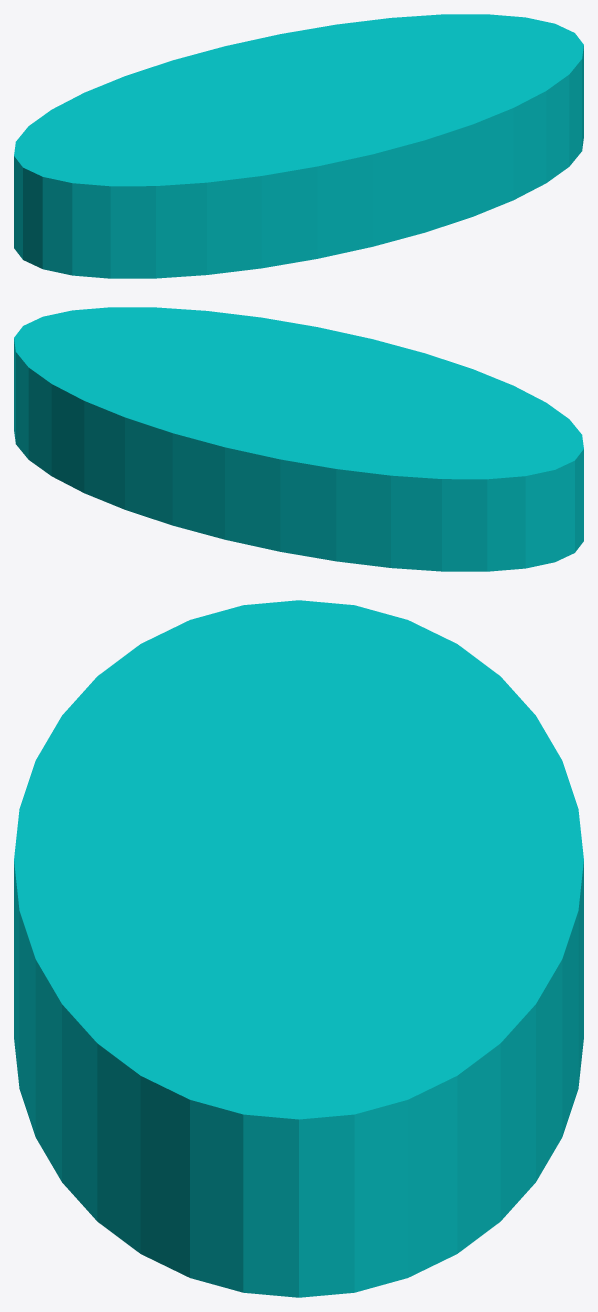
Rendered from griper_base_mesh_collision.dae.
3 views of the same model, one above another, from view 1: azimuth 30°, elevation 25°; view 2: azimuth 150°, elevation 25°; view 3: azimuth 270°, elevation 25° (orthographic). The views are drawn at different scales.
Parts seen in each view (by area): view 1: griper_base_collision; view 2: griper_base_collision; view 3: griper_base_collision.
Boxes of the visible parts, x1,y1,x2,y2 form: griper_base_collision: (14,14,583,278); griper_base_collision: (14,307,583,571); griper_base_collision: (14,600,583,1297).
Size of the model in its own units: 4.16 by 1.93 by 0.6663.
